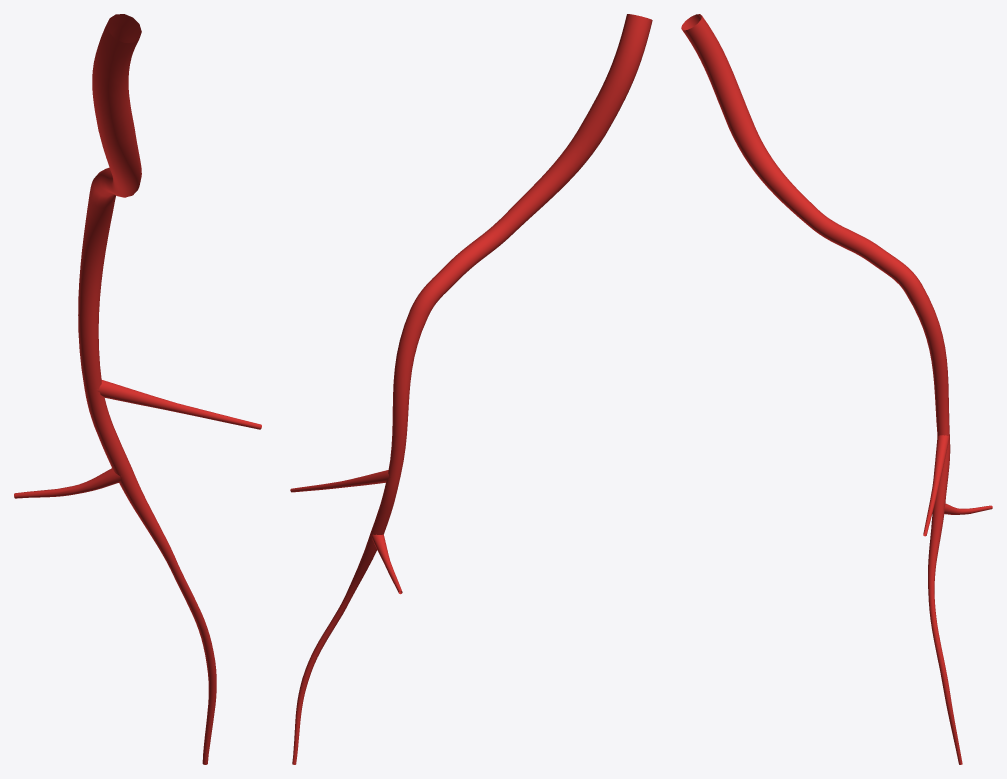
Rendered from circulatorio-inferior-gluteal-artery-l.glb.
3 renders of one model, left to right at view 1: azimuth 30°, elevation 25°; view 2: azimuth 150°, elevation 25°; view 3: azimuth 270°, elevation 25°, orthographic. The views are drawn at different scales.
Parts seen in each view (by area): view 1: Inferior gluteal artery.l; view 2: Inferior gluteal artery.l; view 3: Inferior gluteal artery.l.
Boxes of the visible parts, left/top/right/bottom form: Inferior gluteal artery.l: left=14, top=14, right=261, bottom=764; Inferior gluteal artery.l: left=290, top=14, right=652, bottom=764; Inferior gluteal artery.l: left=681, top=14, right=992, bottom=764.
Size of the model in its own units: 0.041 by 0.1159 by 0.0499.
